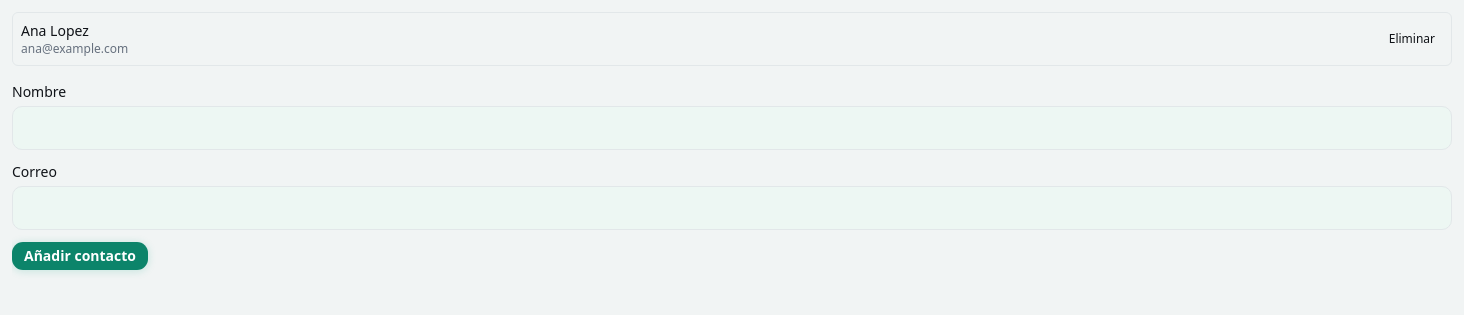
Test: ContactsSettings › surfaces a failed delete as an alert
The image size is (1464, 315).
Expected: the text "Ana Lopez" is shown, [21,21,89,41]
Click the button "Eliminar" at (1412, 39), box [1381,27,1443,51]
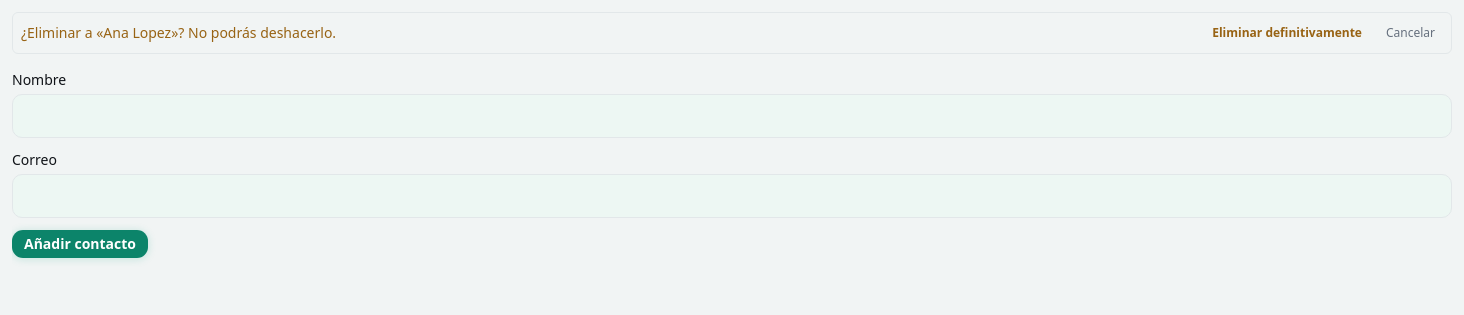
Click the button "Eliminar definitivamente" at (1287, 33), box [1204,21,1370,45]
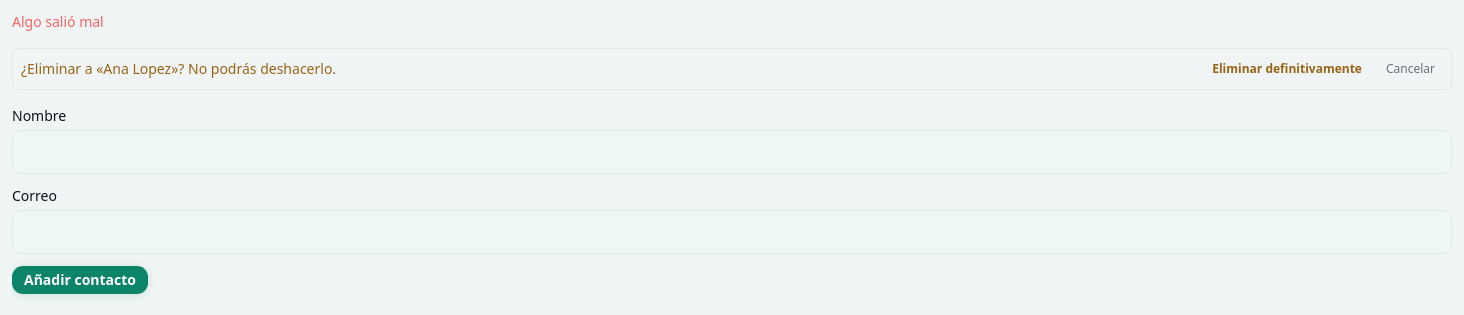
Expected: the message reads "Algo salió mal", [12,12,104,31]
